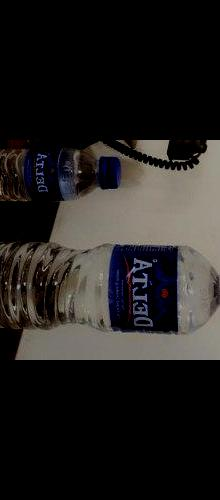bottle: (0, 237, 220, 334), (0, 146, 119, 202)
